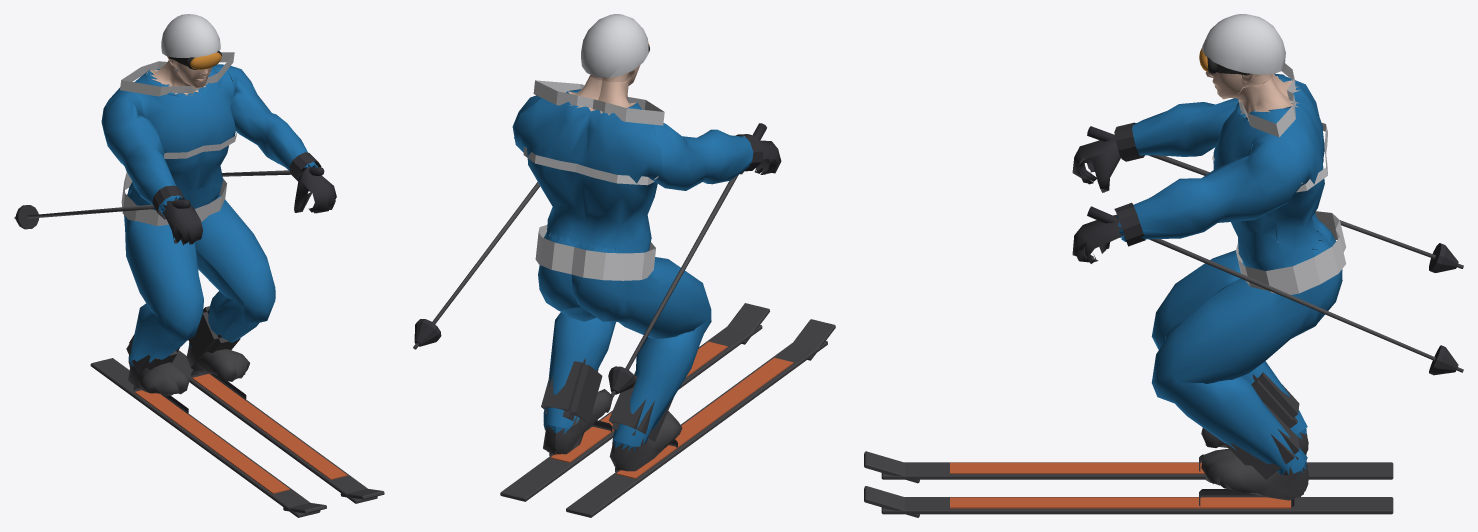
Rendered from skier-air.glb.
3 views of the same model, side by side, from view 1: azimuth 30°, elevation 25°; view 2: azimuth 150°, elevation 25°; view 3: azimuth 270°, elevation 25° (orthographic). The views are drawn at different scales.
Visible parts, largest first — view 1: skier-air; view 2: skier-air; view 3: skier-air.
Part boxes in pixels (x1,y1,x2,y2): skier-air: (14, 14, 384, 517); skier-air: (413, 14, 835, 517); skier-air: (864, 14, 1463, 517).
Bounding box in the file's own units: 0.7914 × 1.53 × 1.74.
